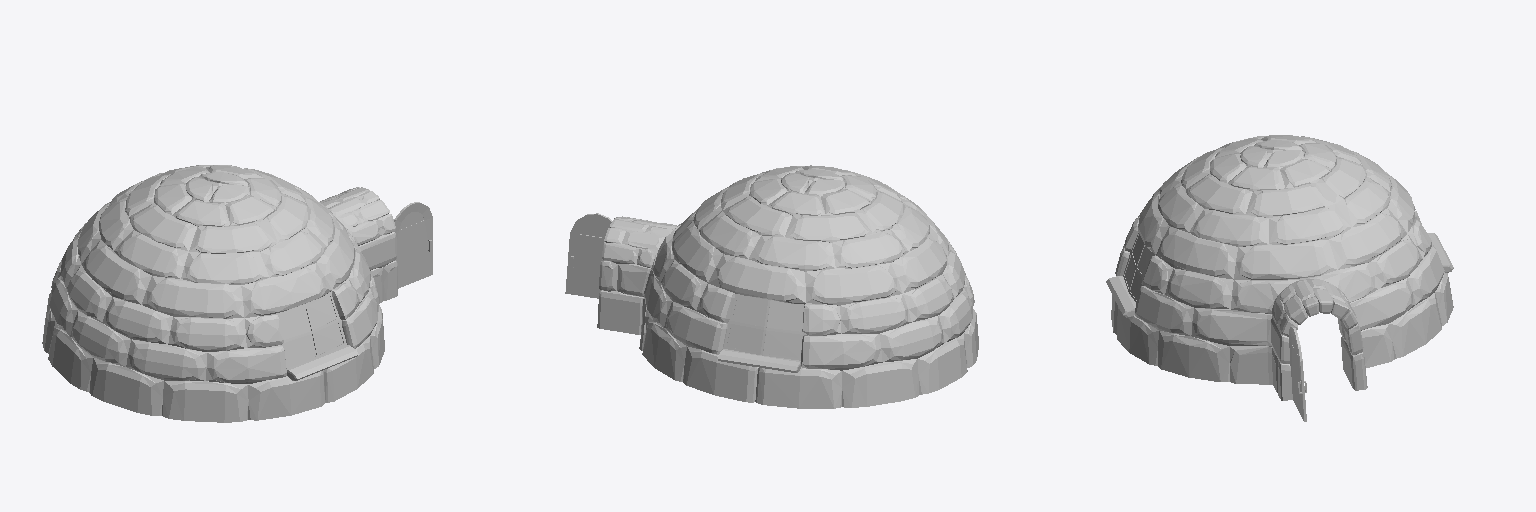
File: igloo2.obj
3 renders of one model, left to right at view 1: azimuth 30°, elevation 25°; view 2: azimuth 150°, elevation 25°; view 3: azimuth 270°, elevation 25°, orthographic.
Visible parts, largest first — view 1: 6; view 2: 6; view 3: 6.
Boxes of the visible parts, x1,y1,x2,y2 form: 6: [42, 165, 432, 422]; 6: [565, 165, 978, 408]; 6: [1106, 135, 1453, 421].
Bounding box in the file's own units: 252 × 109 × 200.